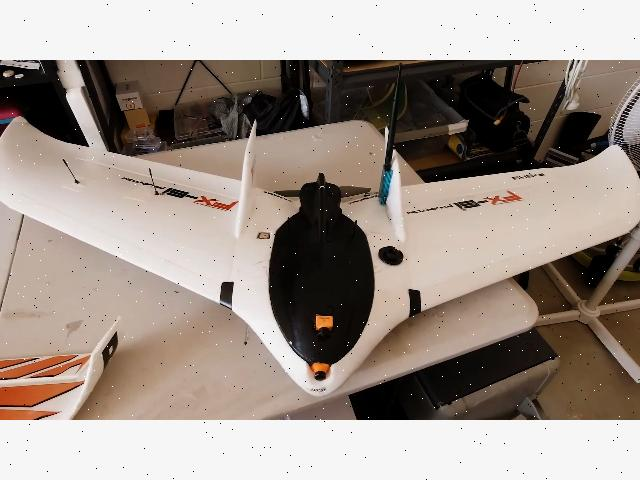Anti-Drone: (0, 94, 640, 404)
